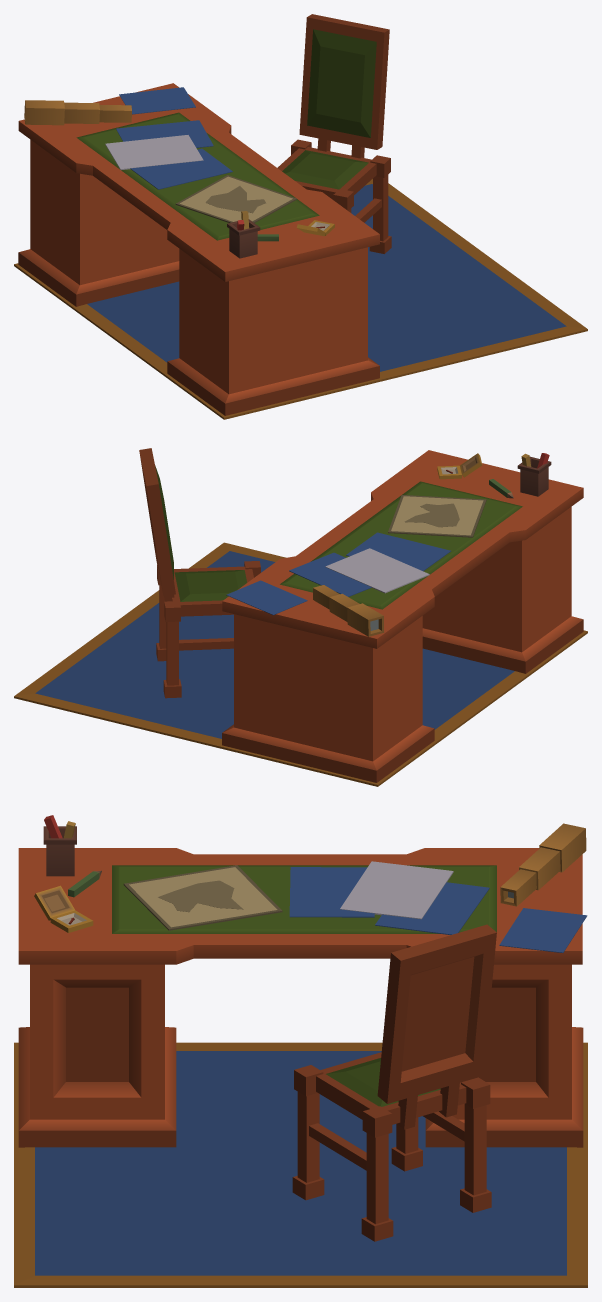
The model's file is topdowntrigger.glb.
The picture shows the model from 3 angles, top to bottom: view 1: azimuth 30°, elevation 25°; view 2: azimuth 150°, elevation 25°; view 3: azimuth 270°, elevation 25°; orthographic projection. The views are drawn at different scales.
Parts seen in each view (by area): view 1: Cube.028; view 2: Cube.028; view 3: Cube.028.
Boxes of the visible parts, x1,y1,x2,y2 form: Cube.028: (14, 14, 587, 419); Cube.028: (14, 448, 587, 786); Cube.028: (14, 815, 587, 1287).
Size of the model in its own units: 2 by 1.12 by 2.
